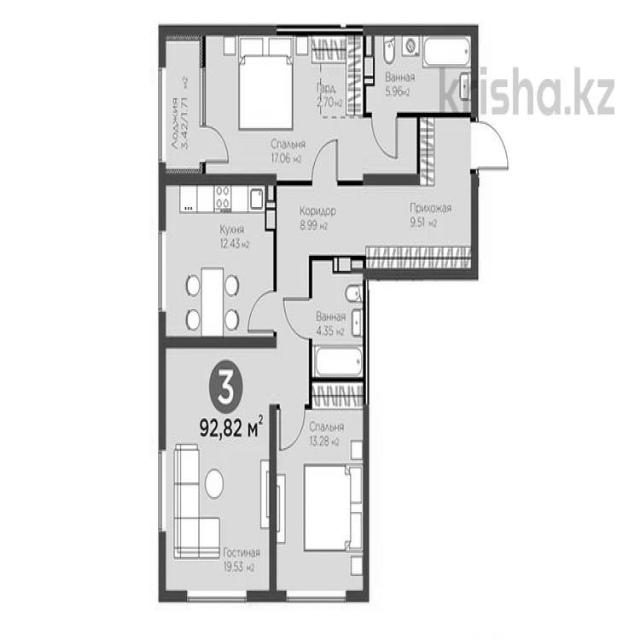bathroom: (364, 32, 477, 116), (310, 261, 366, 377)
hallway: (365, 184, 474, 272), (274, 182, 364, 258)
kitchen: (162, 180, 275, 344)
living_room: (165, 346, 272, 595), (274, 382, 368, 594), (205, 35, 313, 182), (162, 30, 205, 180)
other: (312, 27, 365, 120)
